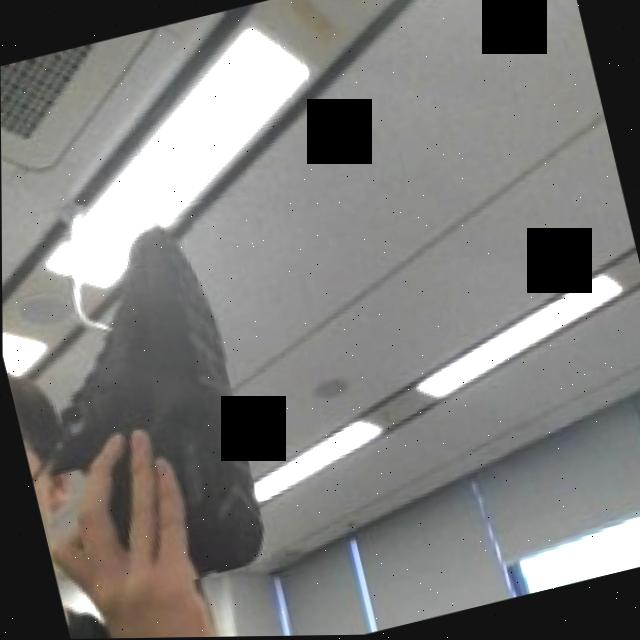shoe: (30, 213, 271, 601)
